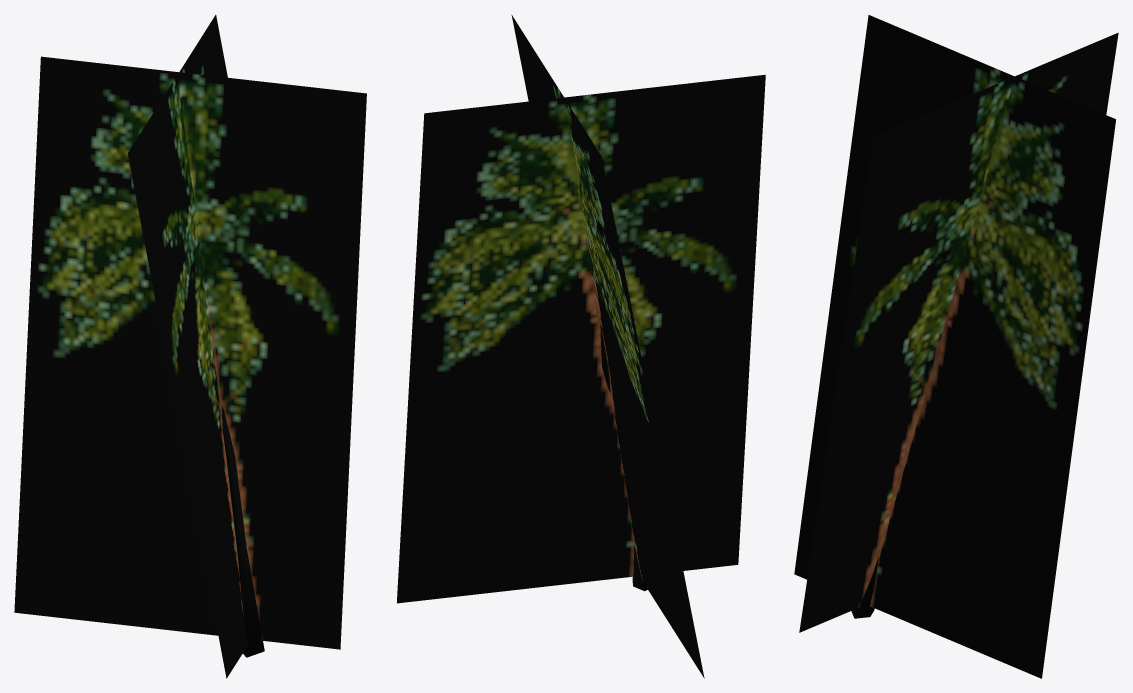
Rendered from tree033.glb.
3 views of the same model, side by side, from view 1: azimuth 30°, elevation 25°; view 2: azimuth 150°, elevation 25°; view 3: azimuth 270°, elevation 25° (orthographic). The views are drawn at different scales.
Visible parts, largest first — view 1: tree033, tree033_trunk; view 2: tree033, tree033_trunk; view 3: tree033, tree033_trunk.
Part boxes in pixels (box(x1,y1,x2,y2)): tree033: box(14, 15, 366, 678); tree033_trunk: box(221, 405, 264, 657); tree033: box(397, 15, 765, 678); tree033_trunk: box(600, 323, 647, 591); tree033: box(794, 15, 1118, 678); tree033_trunk: box(851, 556, 878, 618).
Bounding box in the file's own units: 3.05 × 5.09 × 2.78.
Materials: 1 (1 with a texture image).
